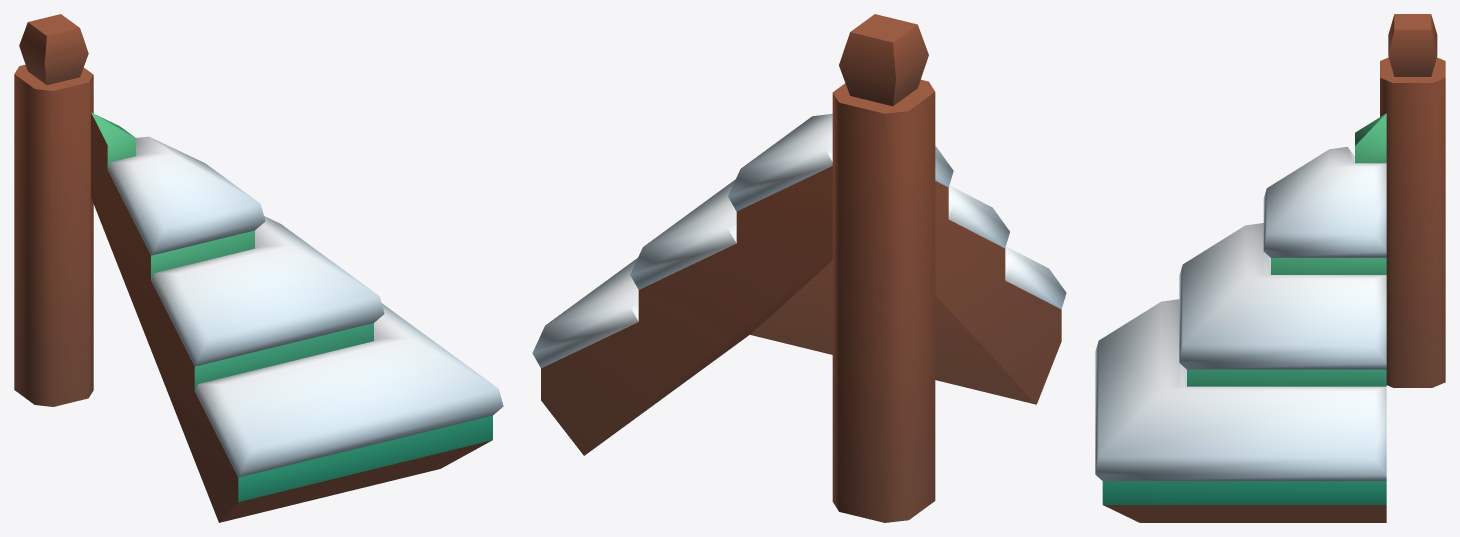
File: kenney-holiday-cabin-roof-snow-corner.glb
3 renders of one model, left to right at view 1: azimuth 30°, elevation 25°; view 2: azimuth 150°, elevation 25°; view 3: azimuth 270°, elevation 25°, orthographic. The views are drawn at different scales.
Visible parts, largest first — view 1: cabin-roof-snow-corner; view 2: cabin-roof-snow-corner; view 3: cabin-roof-snow-corner.
Part boxes in pixels (x1=…): cabin-roof-snow-corner: x1=14, y1=14, x2=503, y2=522; cabin-roof-snow-corner: x1=532, y1=14, x2=1066, y2=522; cabin-roof-snow-corner: x1=1095, y1=14, x2=1445, y2=522.
Size of the model in its own units: 1.34 by 1.62 by 1.34.
Materials: 1 (1 with a texture image).
